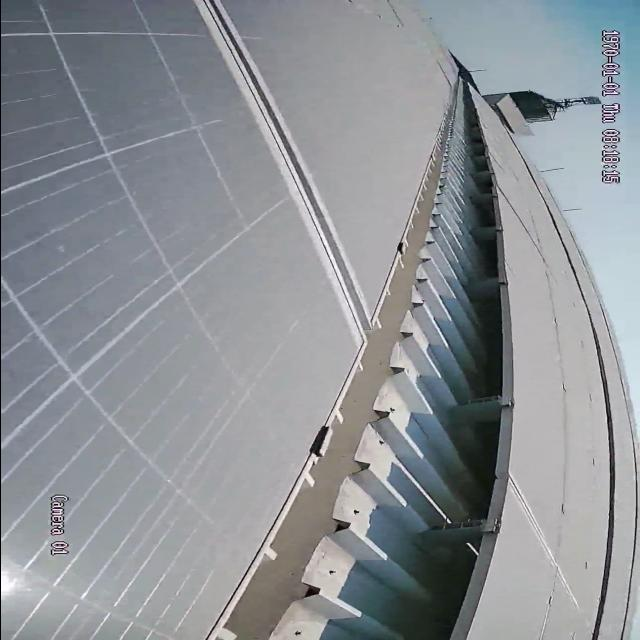interior panel: (200, 1, 370, 334), (513, 478, 576, 599)
outher panel: (211, 77, 511, 636)
